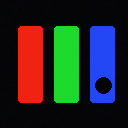2 circle: (95, 77, 111, 93)
